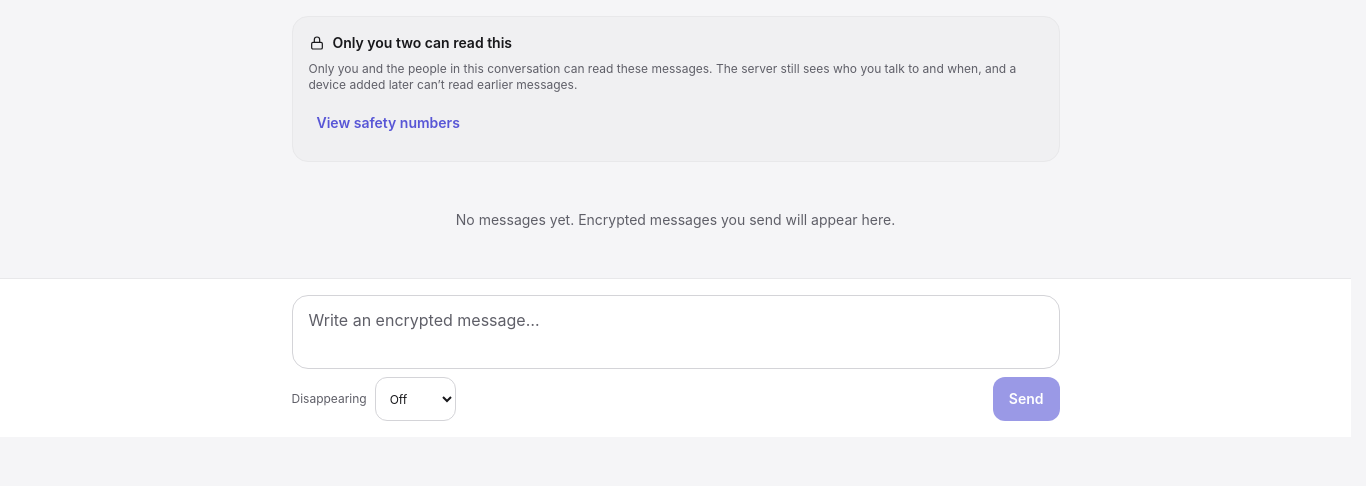
it: EncryptedThreadView envelope addressing › keeps a draft and explains recipient readiness without posting a message
In the text box labelled "Write an encrypted message": x=676, y=332 [292,295,1060,369], type "keep me"
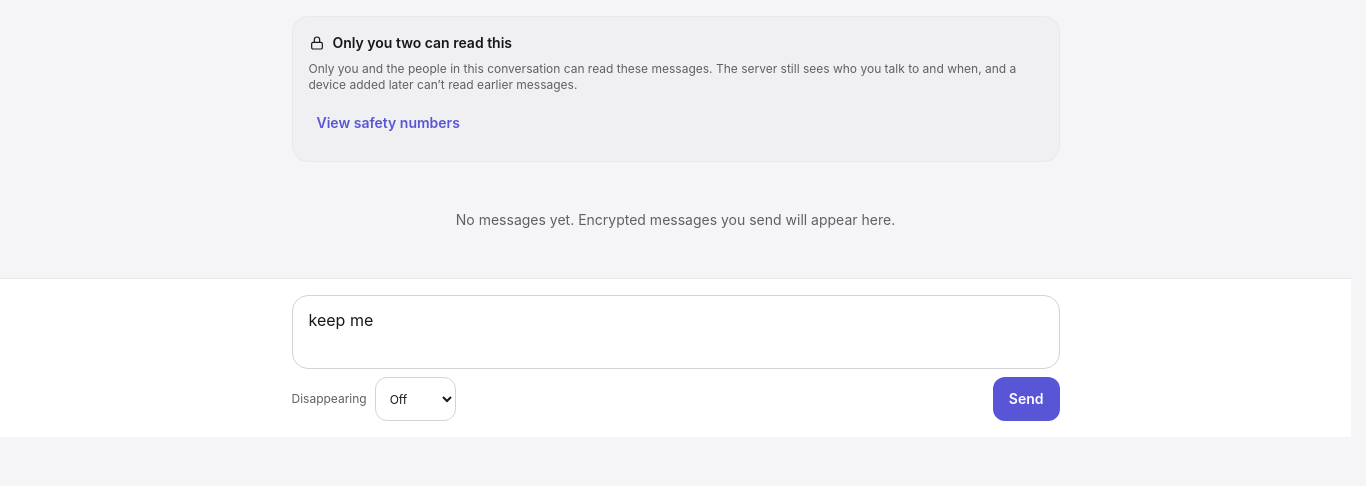
Click the button "Send": x=1026, y=399 [993,377,1060,421]
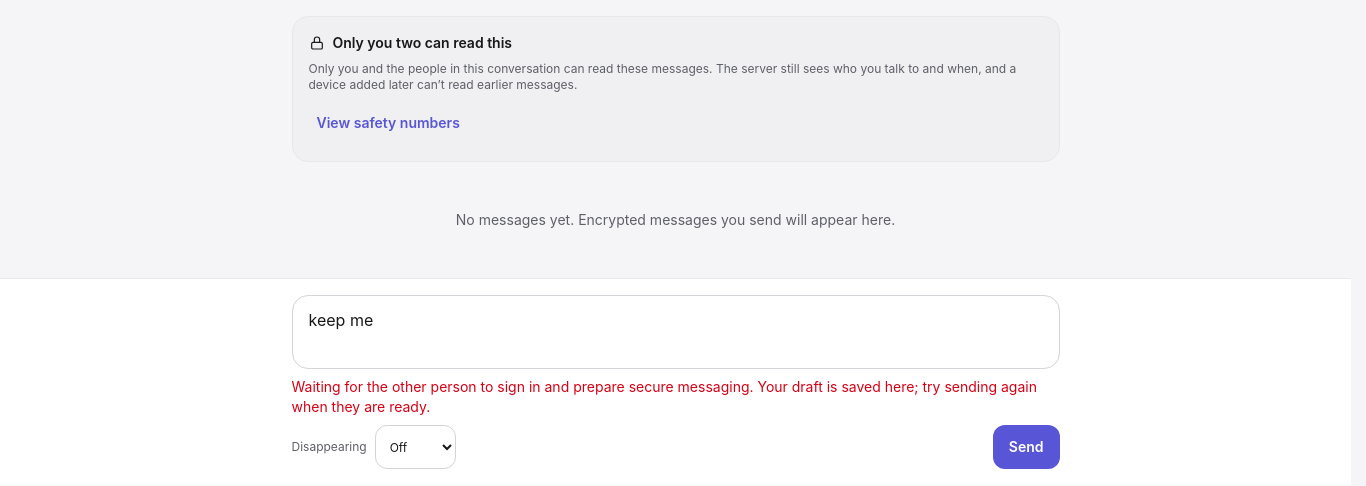
Expected: the message shows "Waiting for the other person to sign in and prepare secure messaging. Your draft is saved here; try sending again when they are ready.", [292,378,1037,415]
